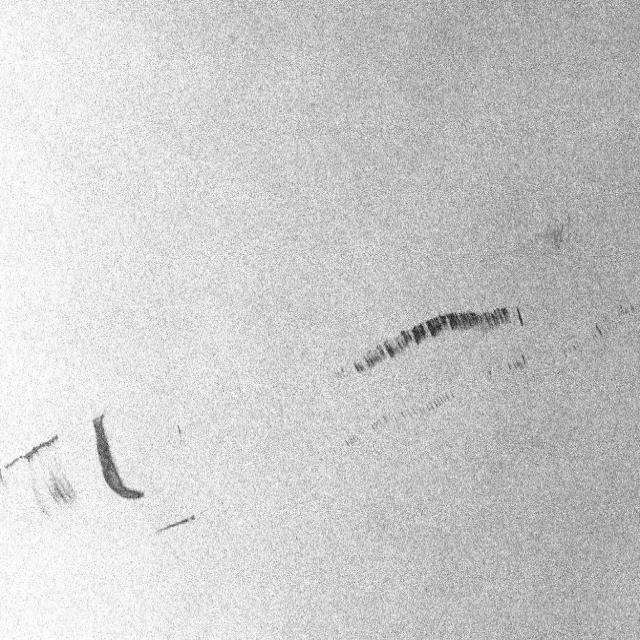oil-spill: (335, 304, 528, 379), (87, 406, 147, 510), (4, 433, 59, 479), (153, 511, 198, 551), (46, 467, 74, 515)
